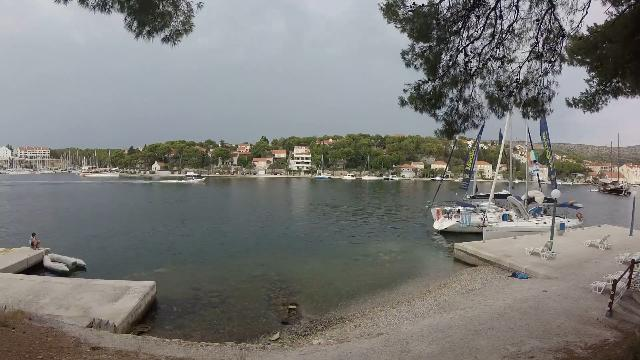speedboat: (178, 170, 210, 186)
